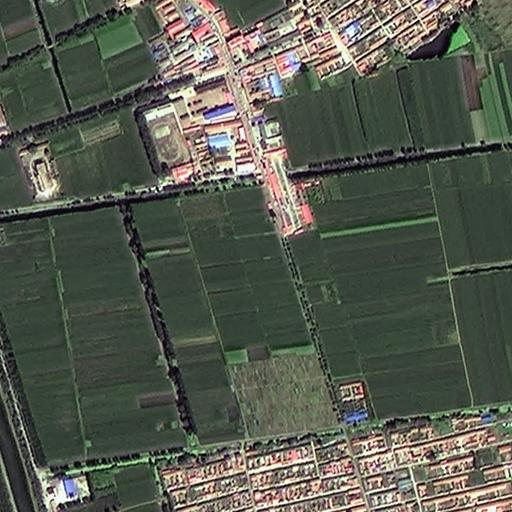school: (140, 74, 238, 175)
